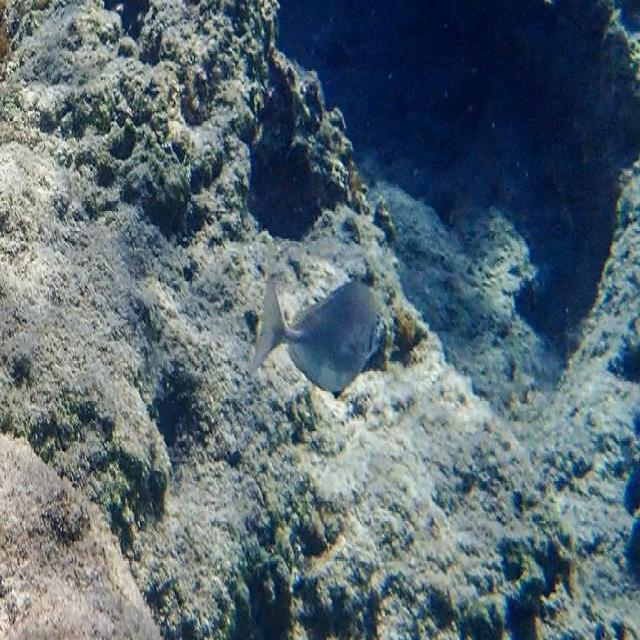Sokar Baligi: (240, 257, 398, 400)
